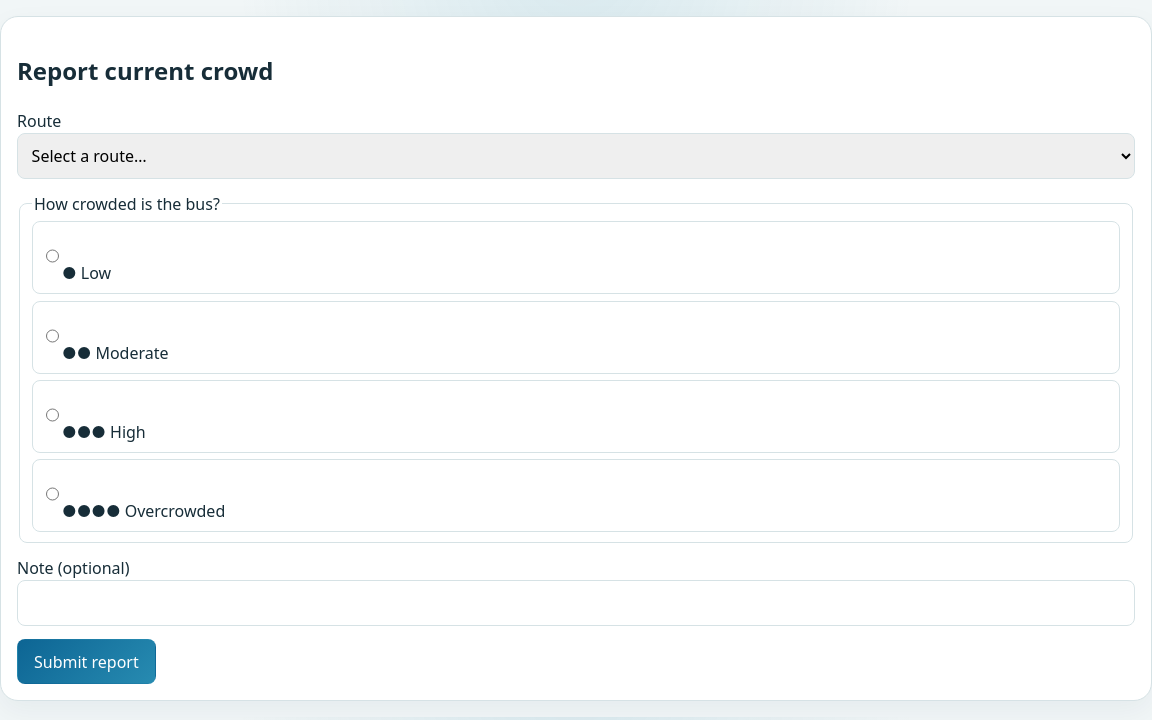
Test: crowd reporting interface › submits the chosen route and level and confirms
This screenshot has width=1152, height=720.
Step 1. Select "SB-02 – Central - Hebbal" in the dropdown labelled "Route" → coordinates (576, 156), box [17,133,1135,179]
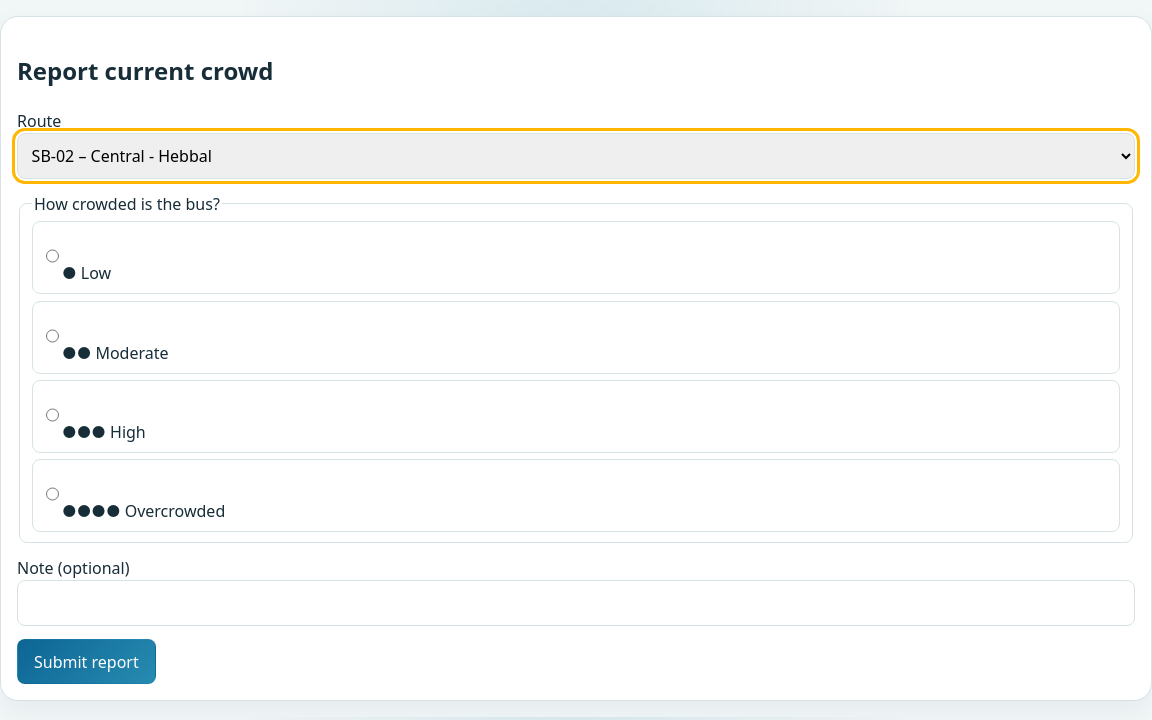
Step 2. Click the radio button labelled "●●● High" → coordinates (52, 415), box [46,392,59,438]
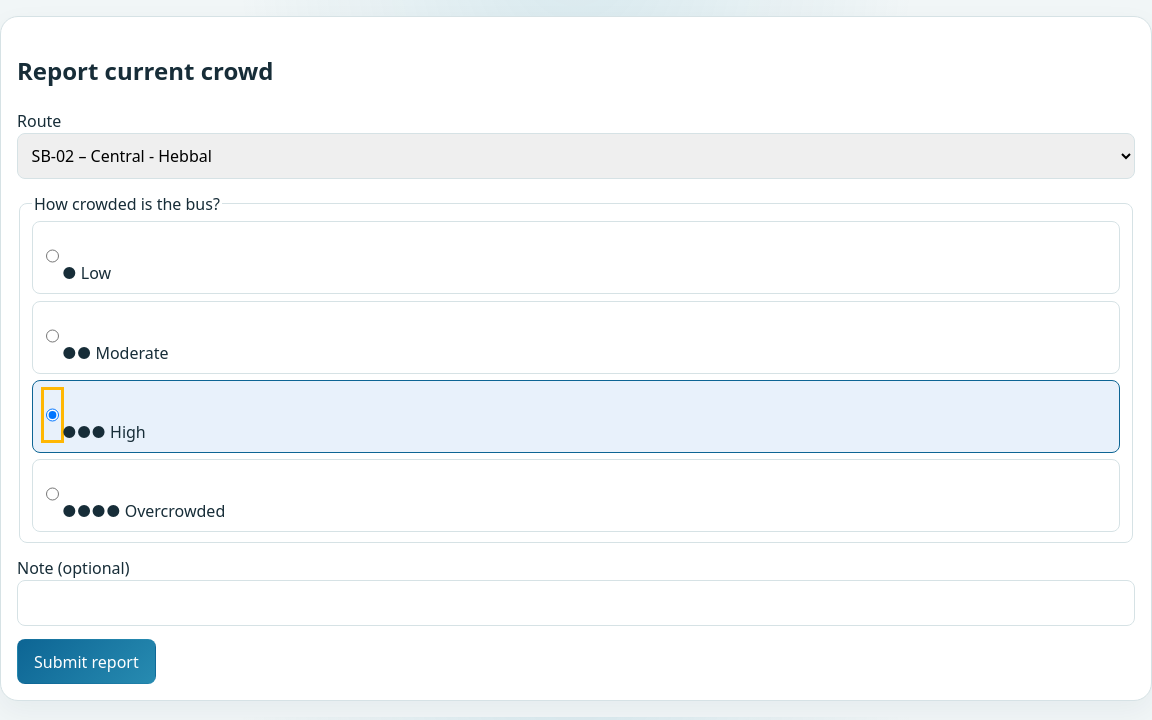
Step 3. Click the button "Submit report" → coordinates (86, 662), box [17,639,156,684]
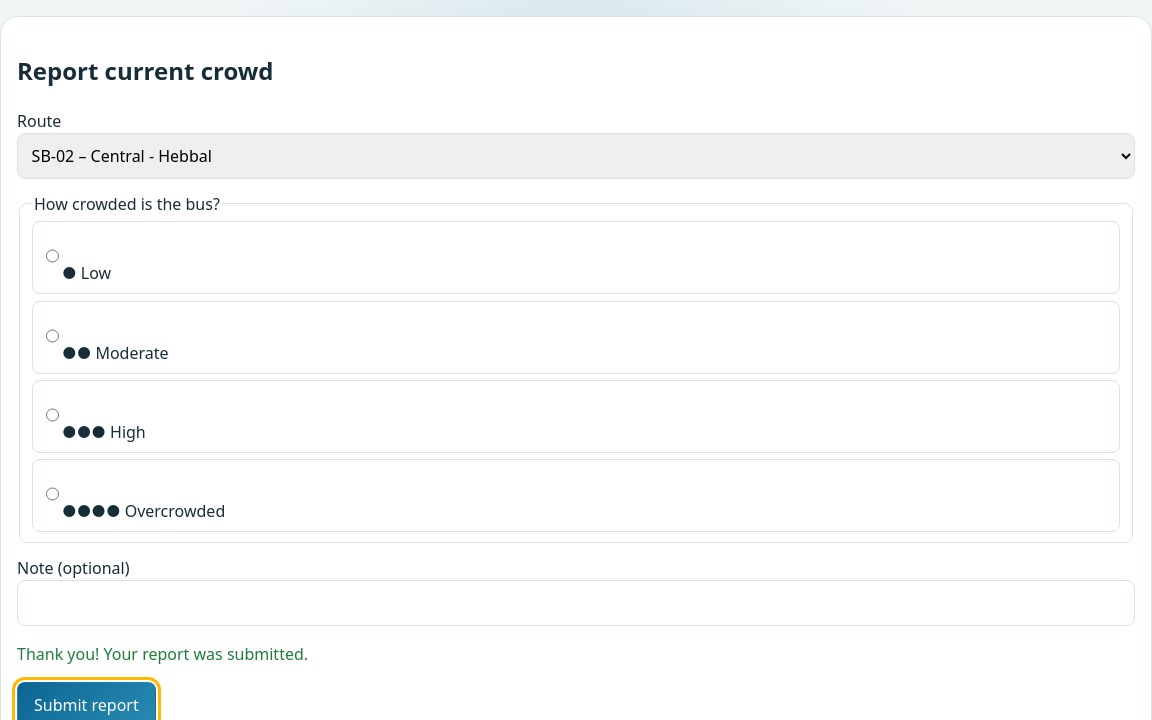
Expected: the text "Thank you! Your report was submitted." is shown, [17,643,308,665]
